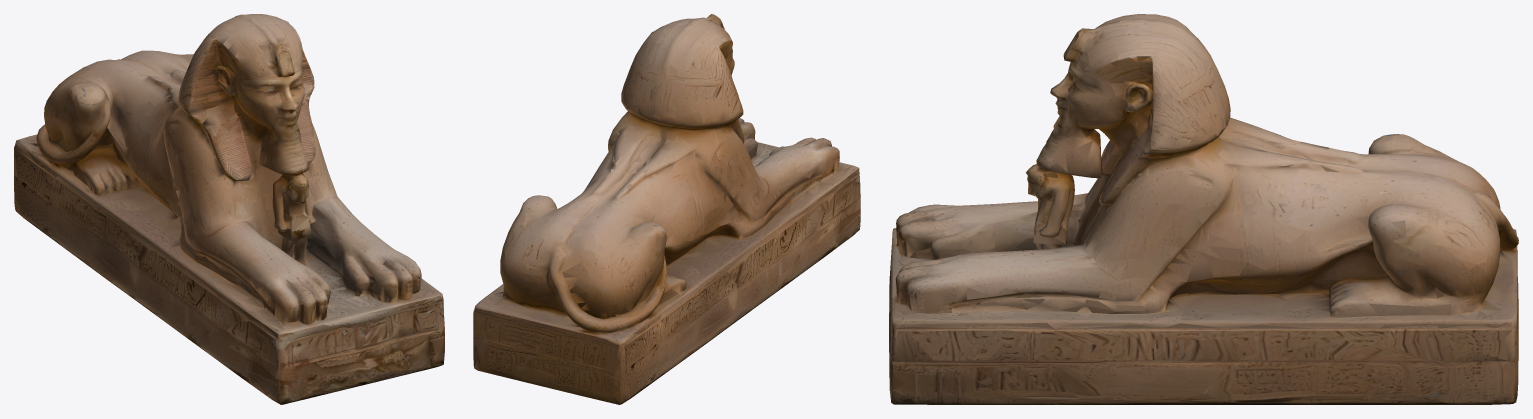
The model's file is sphinx_1.glb.
3 renders of one model, left to right at view 1: azimuth 30°, elevation 25°; view 2: azimuth 150°, elevation 25°; view 3: azimuth 270°, elevation 25°, orthographic. The views are drawn at different scales.
Parts seen in each view (by area): view 1: tripo_node_7ee1b49d; view 2: tripo_node_7ee1b49d; view 3: tripo_node_7ee1b49d.
Part boxes in pixels (left/top/right/bottom): tripo_node_7ee1b49d: left=14, top=14, right=444, bottom=404; tripo_node_7ee1b49d: left=473, top=14, right=860, bottom=404; tripo_node_7ee1b49d: left=889, top=14, right=1518, bottom=404.
Size of the model in its own units: 0.8 by 1.3 by 2.2.
1 material, 1 textured.
